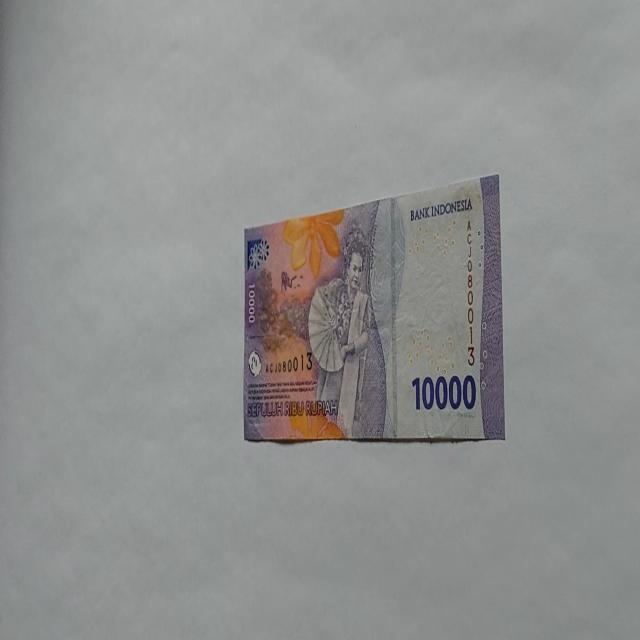sepuluh ribu rupiah: (242, 172, 506, 444), (408, 196, 474, 222)
